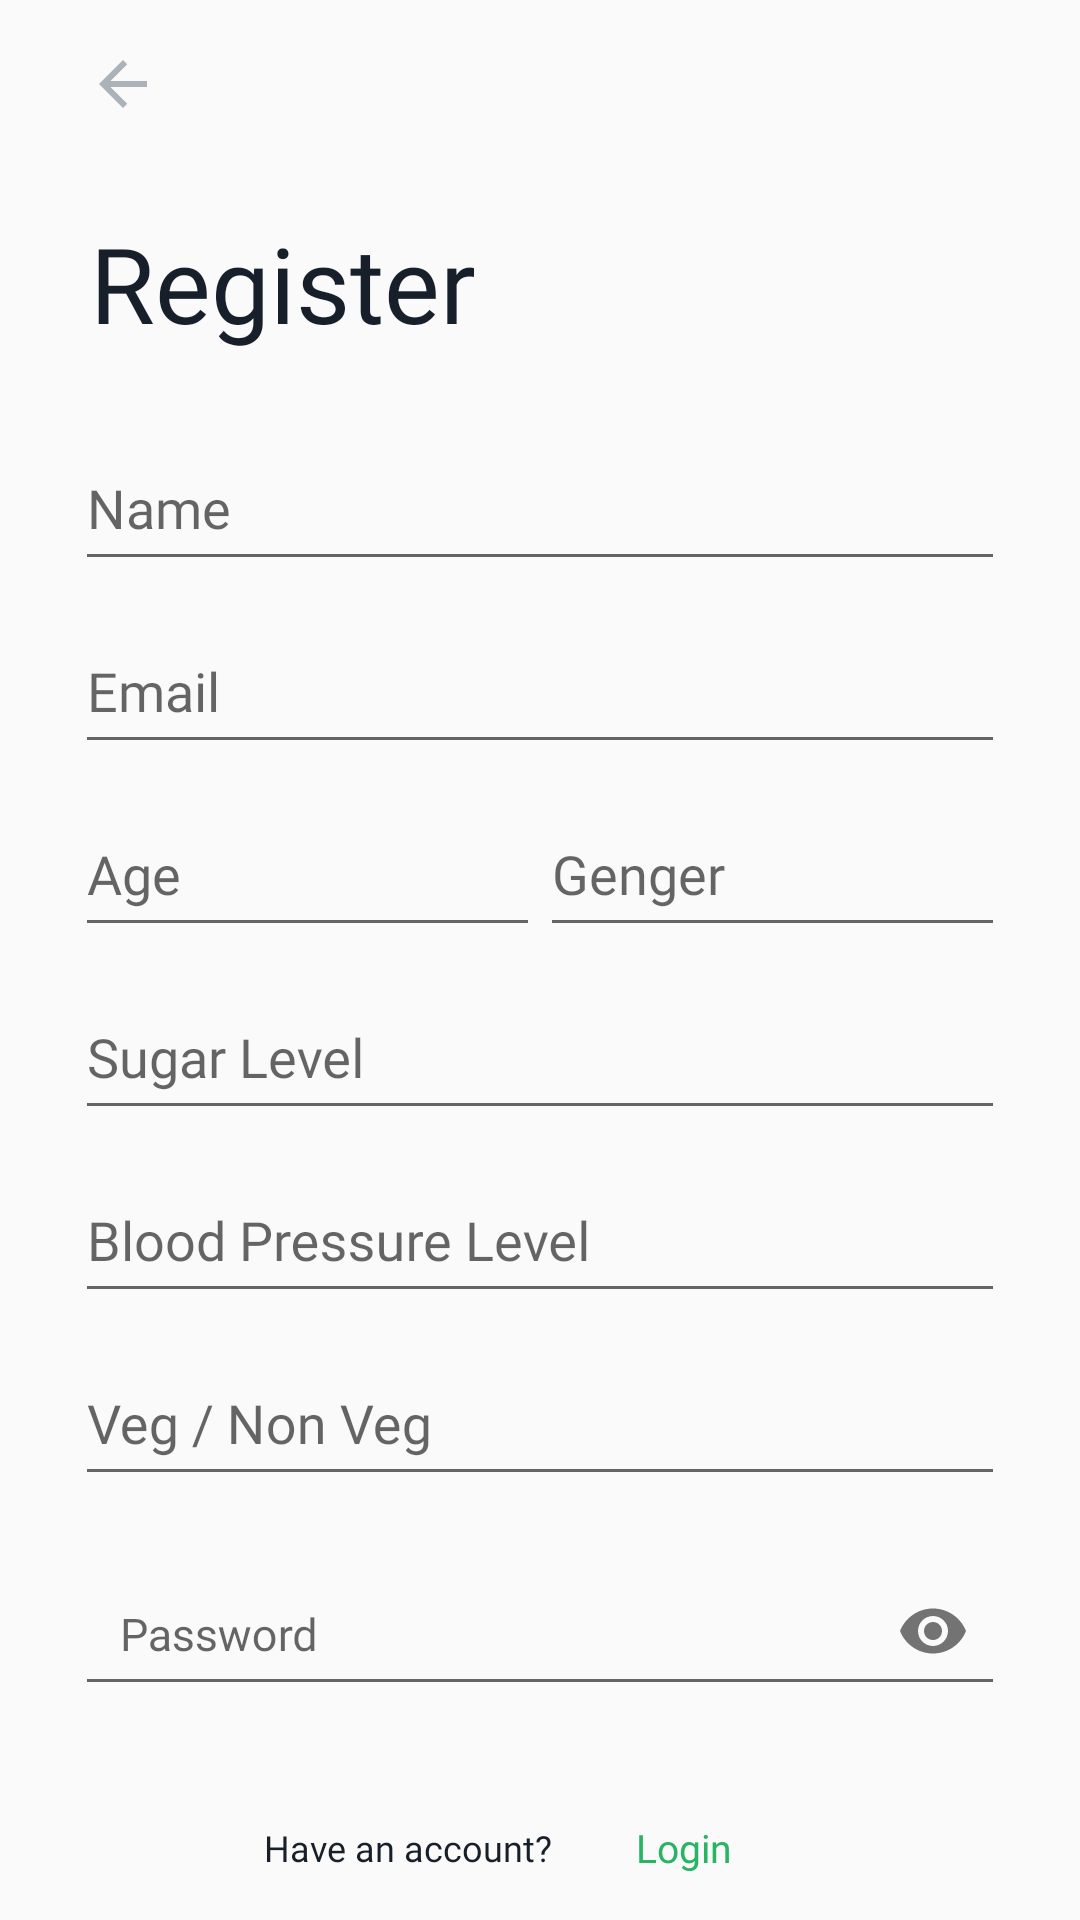

Icons on this 1080×1920 Android screen, each with the point to tap as point (x, y):
back: point (123, 84)
